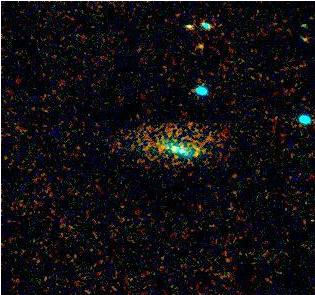star: (185, 32, 215, 62)
